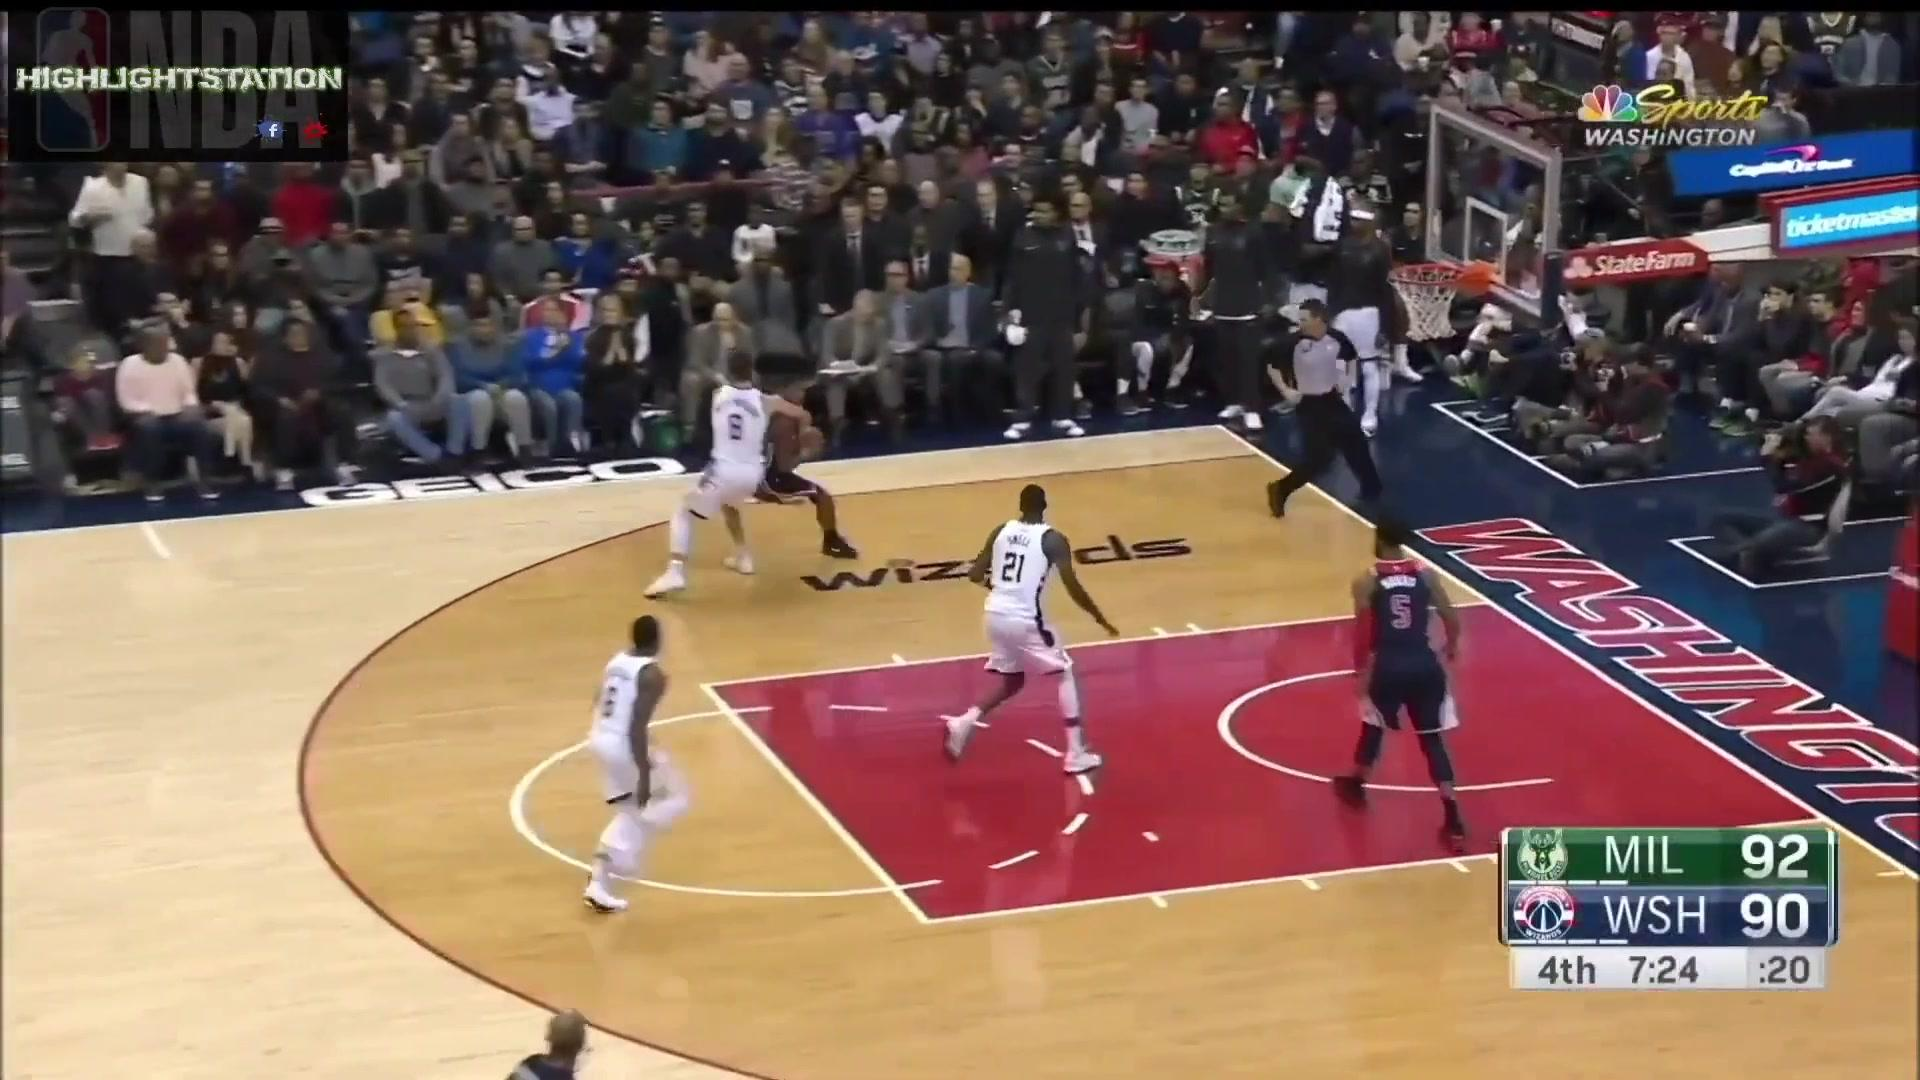foul: (644, 342, 858, 605)
